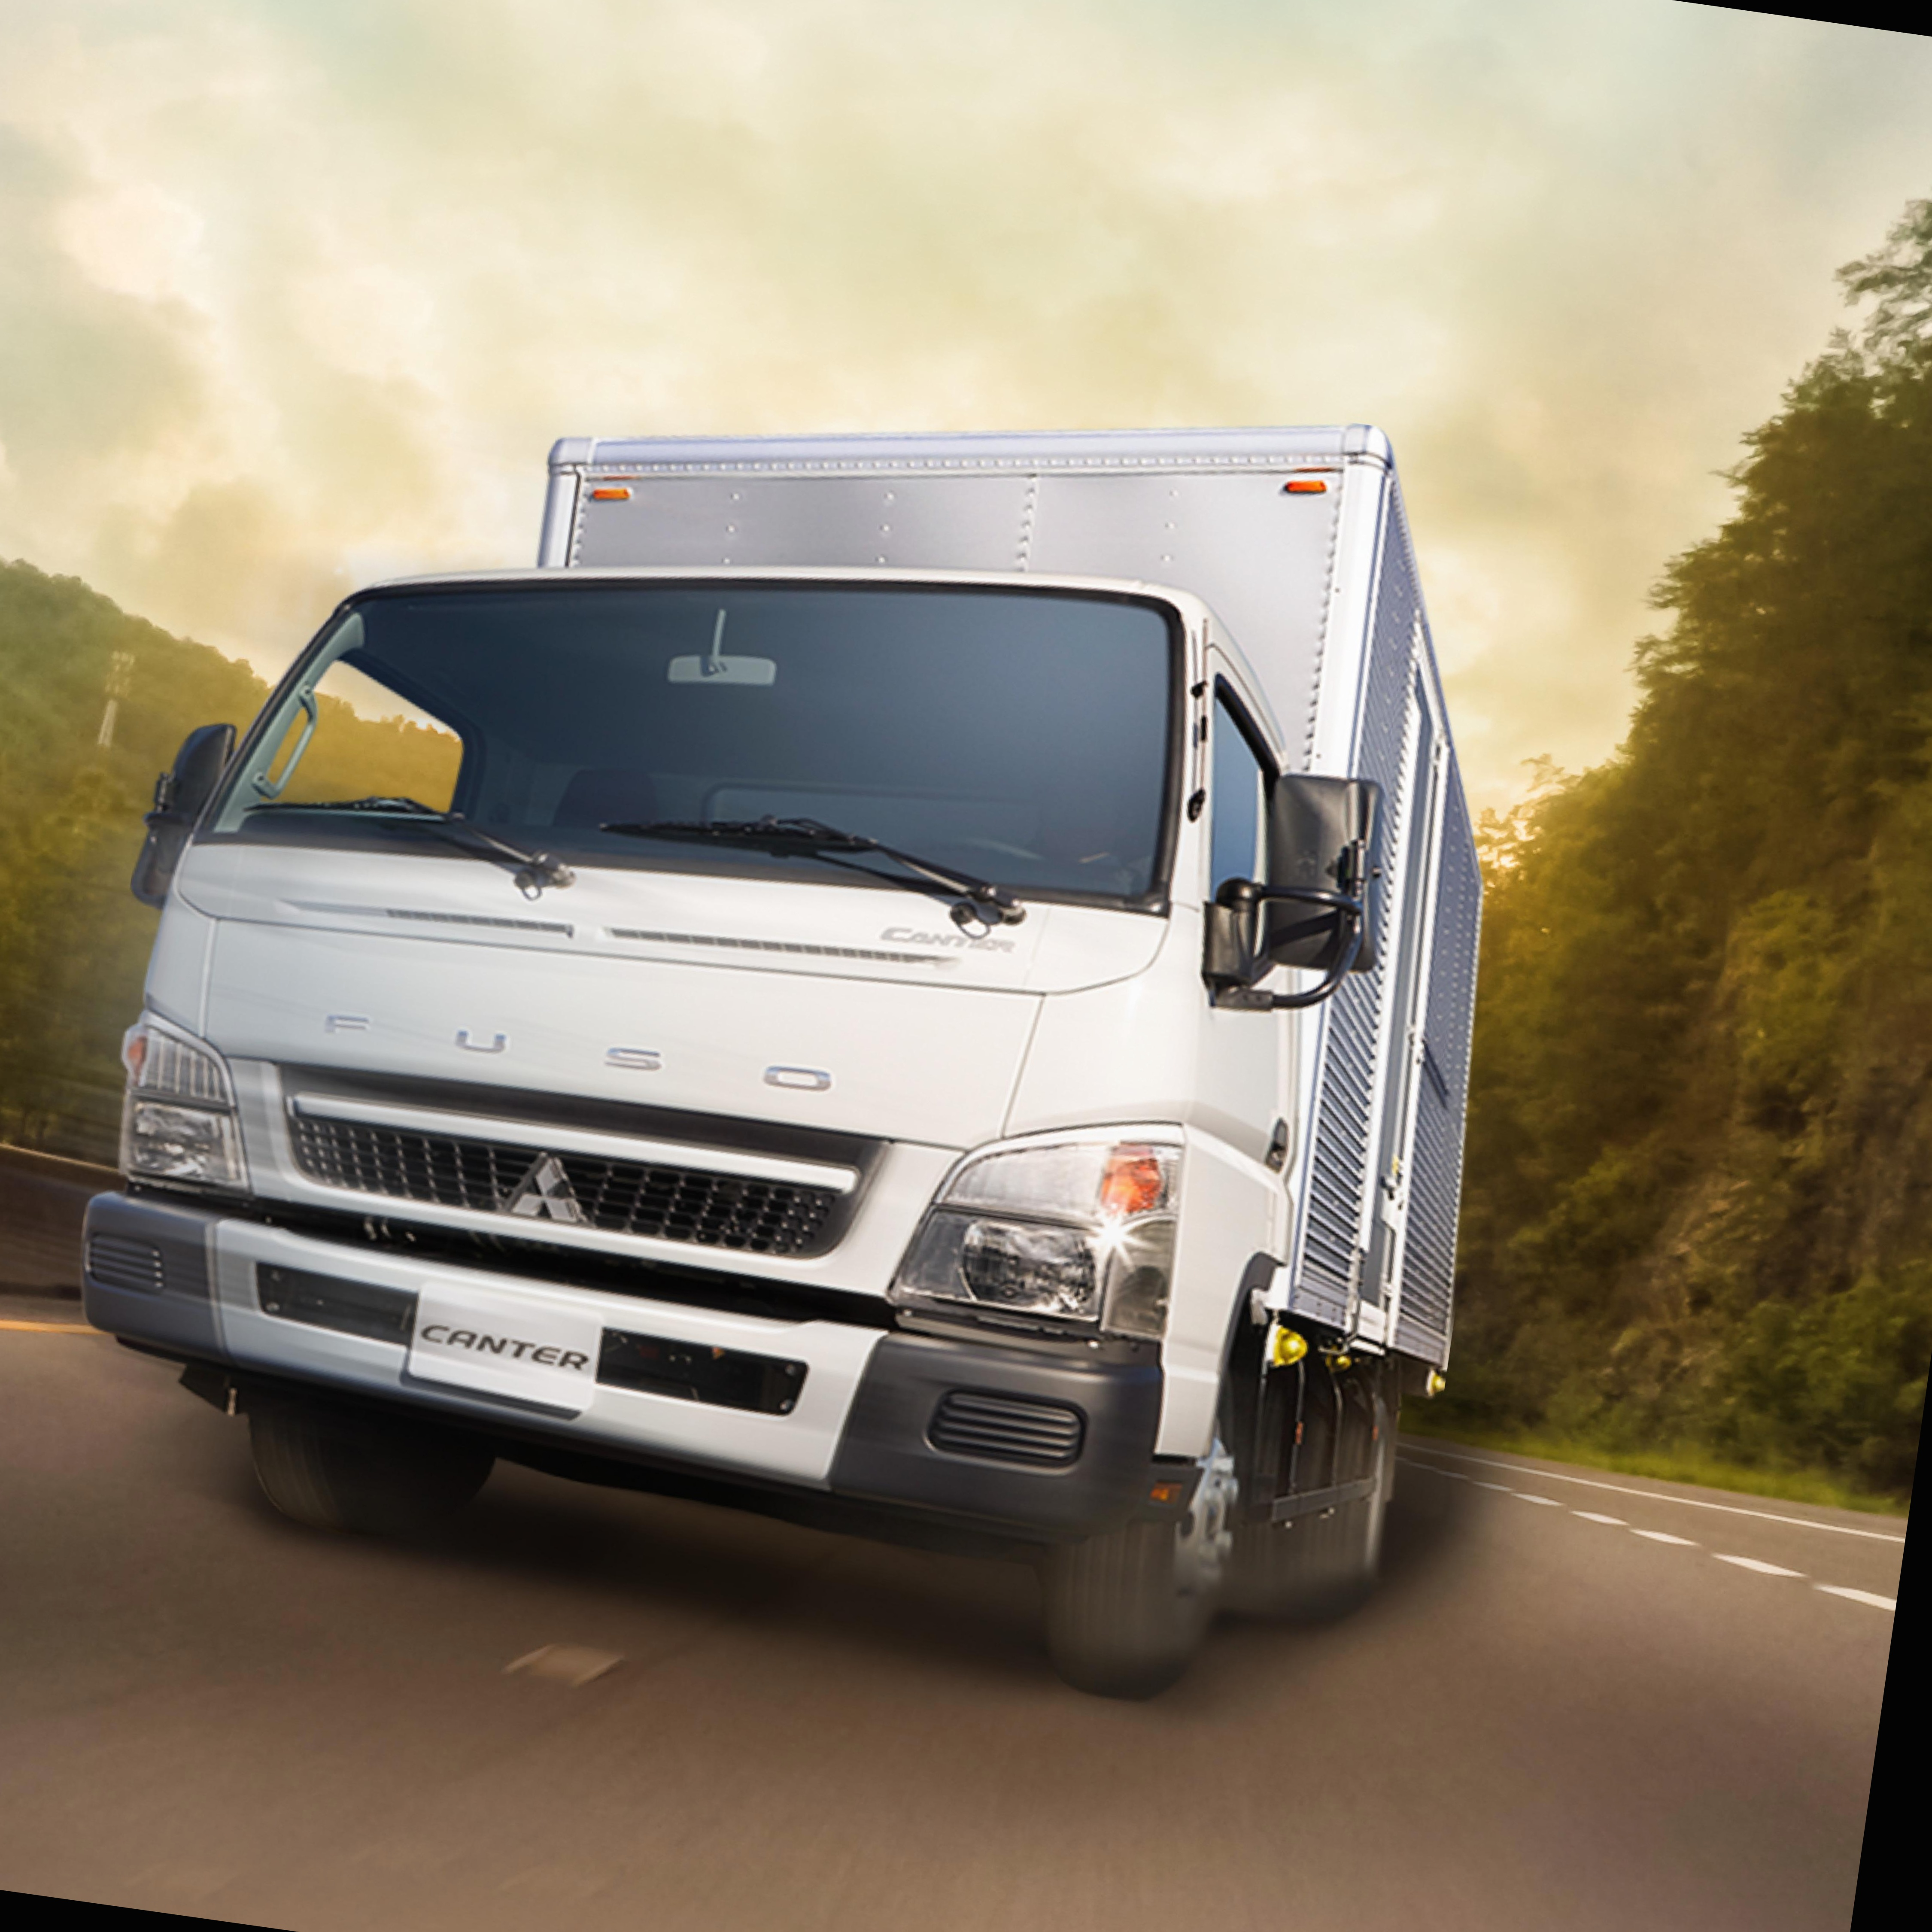truck: (60, 285, 1568, 1741)
